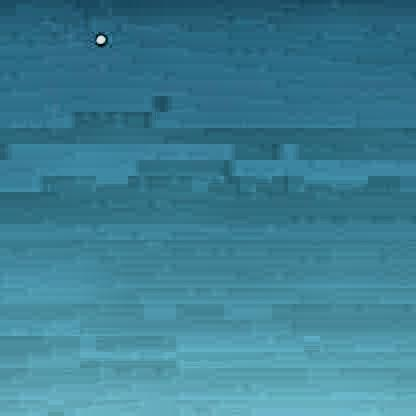golfball: (92, 31, 106, 45)
